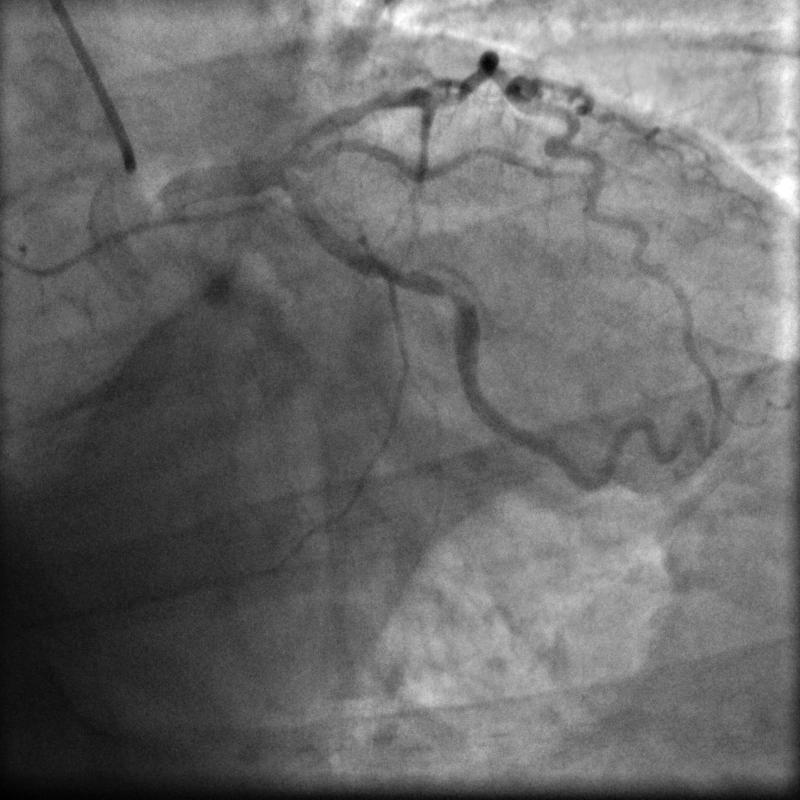Stenosis: (425, 272, 475, 311)
